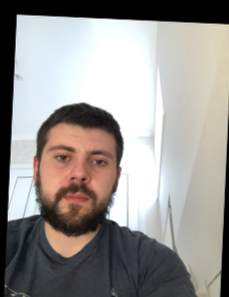without_mask: (39, 138, 116, 238)
